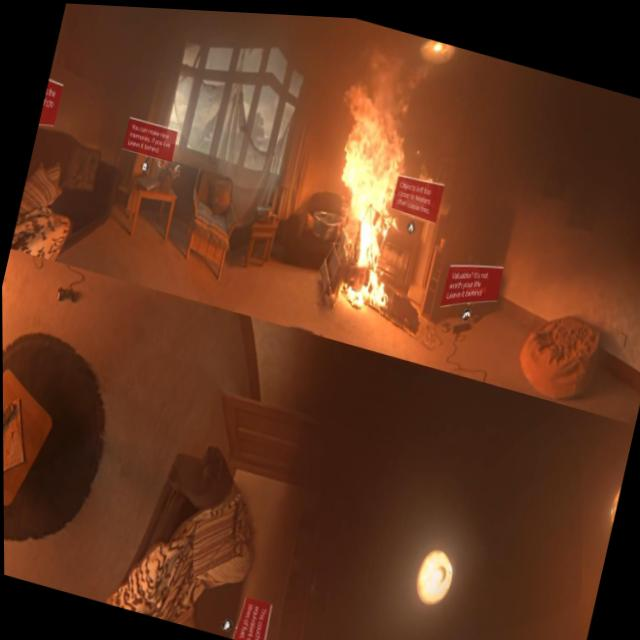fire: (294, 59, 437, 319)
